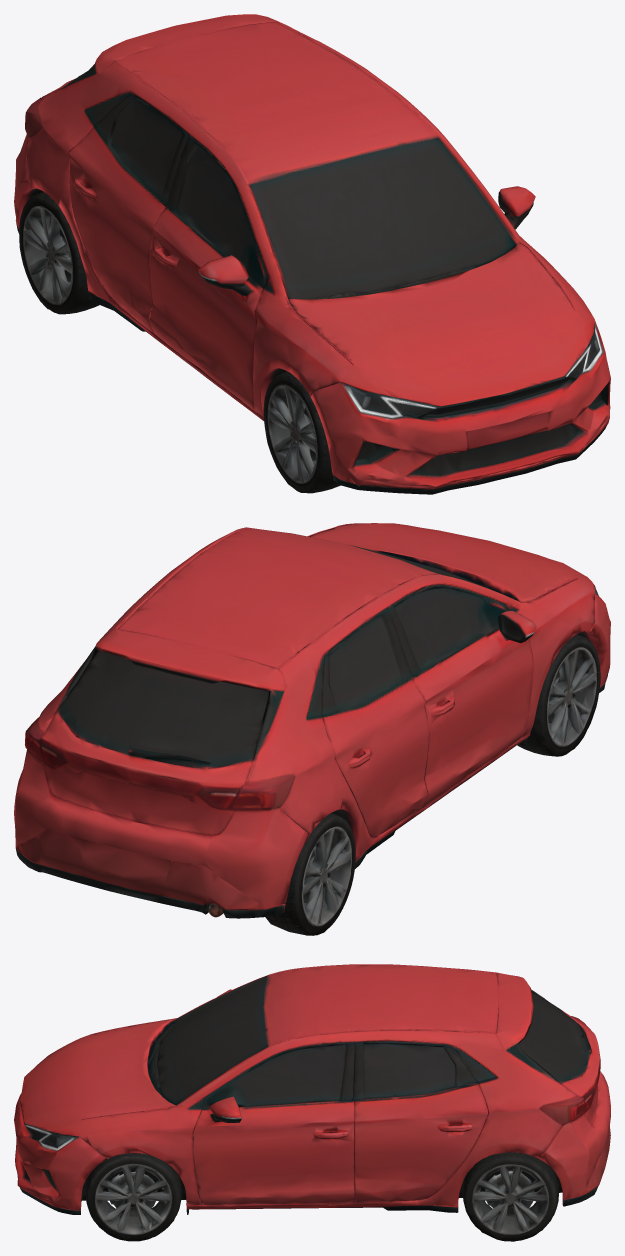
The model's file is red car 3d model.glb.
3 views of the same model, one above another, from view 1: azimuth 30°, elevation 25°; view 2: azimuth 150°, elevation 25°; view 3: azimuth 270°, elevation 25° (orthographic). The views are drawn at different scales.
Parts seen in each view (by area): view 1: tripo_node_d96244cb-2212-4ff2-bc4c-9a50d92579c8; view 2: tripo_node_d96244cb-2212-4ff2-bc4c-9a50d92579c8; view 3: tripo_node_d96244cb-2212-4ff2-bc4c-9a50d92579c8.
Part boxes in pixels (box(x1,y1,x2,y2)): tripo_node_d96244cb-2212-4ff2-bc4c-9a50d92579c8: box(14, 14, 610, 494); tripo_node_d96244cb-2212-4ff2-bc4c-9a50d92579c8: box(14, 523, 610, 935); tripo_node_d96244cb-2212-4ff2-bc4c-9a50d92579c8: box(14, 964, 610, 1241).
Size of the model in its own units: 0.4852 by 0.3578 by 0.9815.
1 material, 1 textured.
